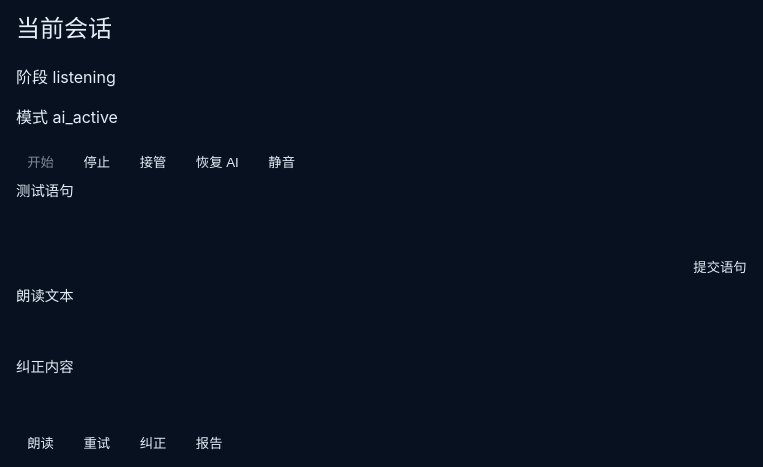
Test: WorkspaceSession › stops the session and returns to a completed phase
The image size is (763, 467).
expect the text "阶段 listening" is shown: met, box 16,67 -> 116,87
Click the button "停止". click: click(97, 161)
box: 72,144 -> 121,179
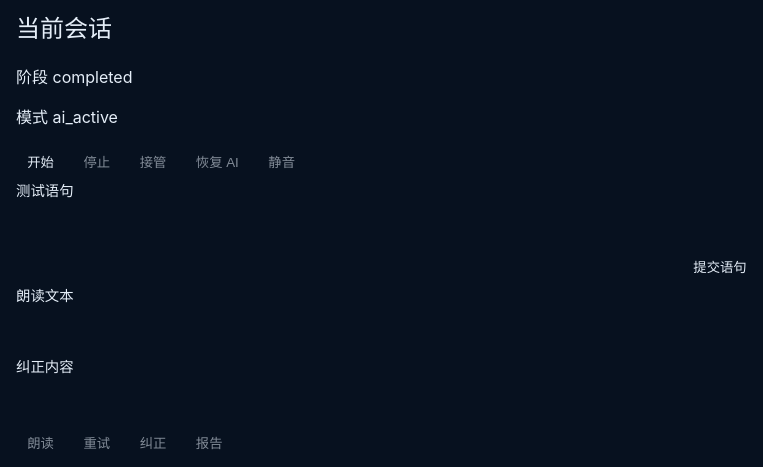
expect the text "completed" is shown: met, box 52,67 -> 132,87
